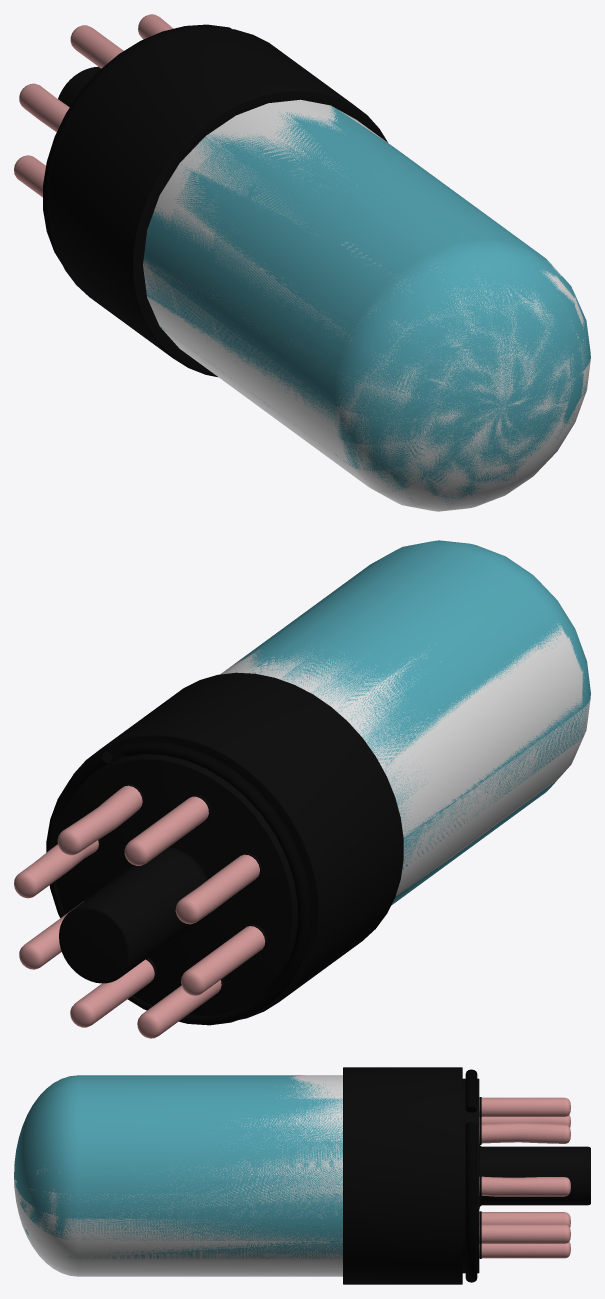
3 renders of one model, top to bottom at view 1: azimuth 30°, elevation 25°; view 2: azimuth 150°, elevation 25°; view 3: azimuth 270°, elevation 25°, orthographic. The views are drawn at different scales.
Visible parts, largest first — view 1: tube4_LOD0, tube4glass_LOD0; view 2: tube4_LOD0, tube4glass_LOD0; view 3: tube4_LOD0, tube4glass_LOD0.
Part boxes in pixels (x1=…): tube4_LOD0: x1=14, y1=14, x2=590, y2=504; tube4glass_LOD0: x1=143, y1=99, x2=590, y2=511; tube4_LOD0: x1=14, y1=540, x2=590, y2=1038; tube4glass_LOD0: x1=220, y1=623, x2=590, y2=895; tube4_LOD0: x1=14, y1=1067, x2=590, y2=1284; tube4glass_LOD0: x1=14, y1=1075, x2=342, y2=1276.
Size of what is drawn, in the model's own units: 1.52 by 1.52 by 4.04.
